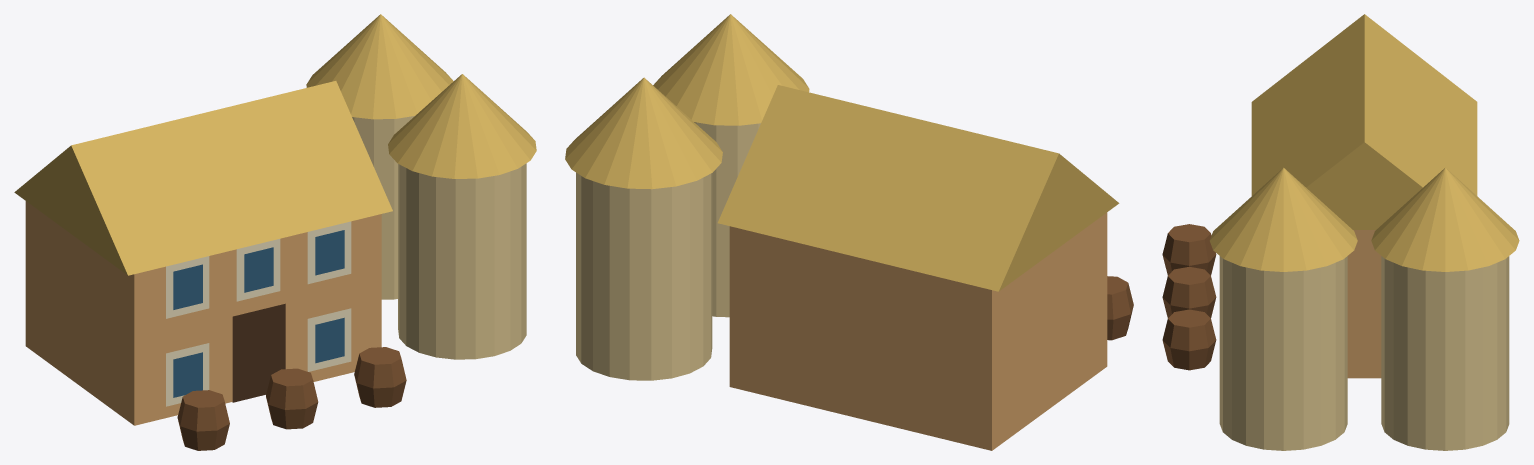
Rendered from building_granary.fbx.
3 views of the same model, side by side, from view 1: azimuth 30°, elevation 25°; view 2: azimuth 150°, elevation 25°; view 3: azimuth 270°, elevation 25° (orthographic). The views are drawn at different scales.
Visible parts, largest first — view 1: building_granary; view 2: building_granary; view 3: building_granary.
Boxes of the visible parts, bbox=[...] form: building_granary: bbox=[14, 14, 536, 450]; building_granary: bbox=[565, 14, 1133, 450]; building_granary: bbox=[1162, 14, 1519, 450].
Size of the model in its own units: 70.5 by 42 by 53.
